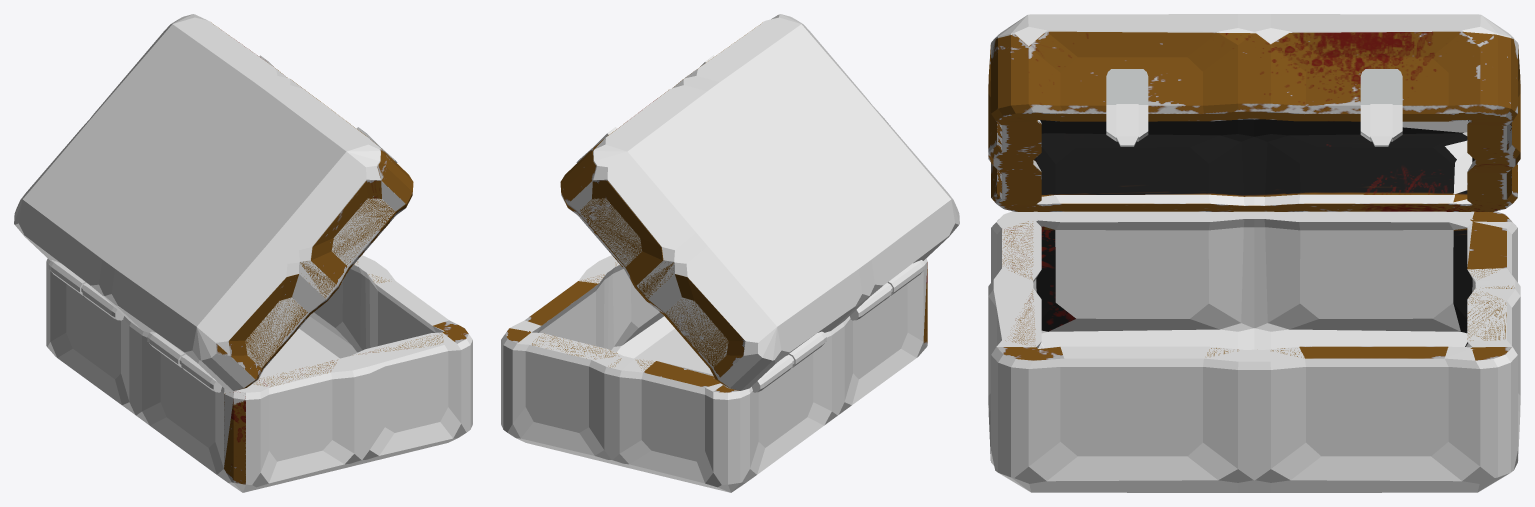
Rendered from Mili-Box-Open_45_Texture.fbx.
The picture shows the model from 3 angles, left to right: view 1: azimuth 30°, elevation 25°; view 2: azimuth 150°, elevation 25°; view 3: azimuth 270°, elevation 25°; orthographic projection. The views are drawn at different scales.
Visible parts, largest first — view 1: Box.001, Box, upperuv, loweruv, Hinges; view 2: Box.001, Box, upperuv, loweruv, Hinges; view 3: Box, upperuv, Box.001, loweruv, Locks.001, Locks.
Part boxes in pixels (left/top/right/bottom): Box.001: left=14, top=14, right=405, bottom=390; Box: left=46, top=255, right=472, bottom=492; upperuv: left=211, top=22, right=413, bottom=390; loweruv: left=224, top=261, right=468, bottom=484; Hinges: left=48, top=260, right=222, bottom=392; Box.001: left=568, top=14, right=959, bottom=390; Box: left=501, top=255, right=927, bottom=492; upperuv: left=560, top=22, right=762, bottom=390; loweruv: left=505, top=262, right=927, bottom=392; Hinges: left=751, top=260, right=925, bottom=392; Box: left=988, top=211, right=1520, bottom=492; upperuv: left=988, top=31, right=1520, bottom=211; Box.001: left=988, top=14, right=1520, bottom=205; loweruv: left=997, top=211, right=1514, bottom=360; Locks.001: left=1106, top=69, right=1402, bottom=146; Locks: left=1106, top=104, right=1402, bottom=145.
Bounding box in the file's own units: 314 × 343 × 399.
5 materials, 4 textured.
